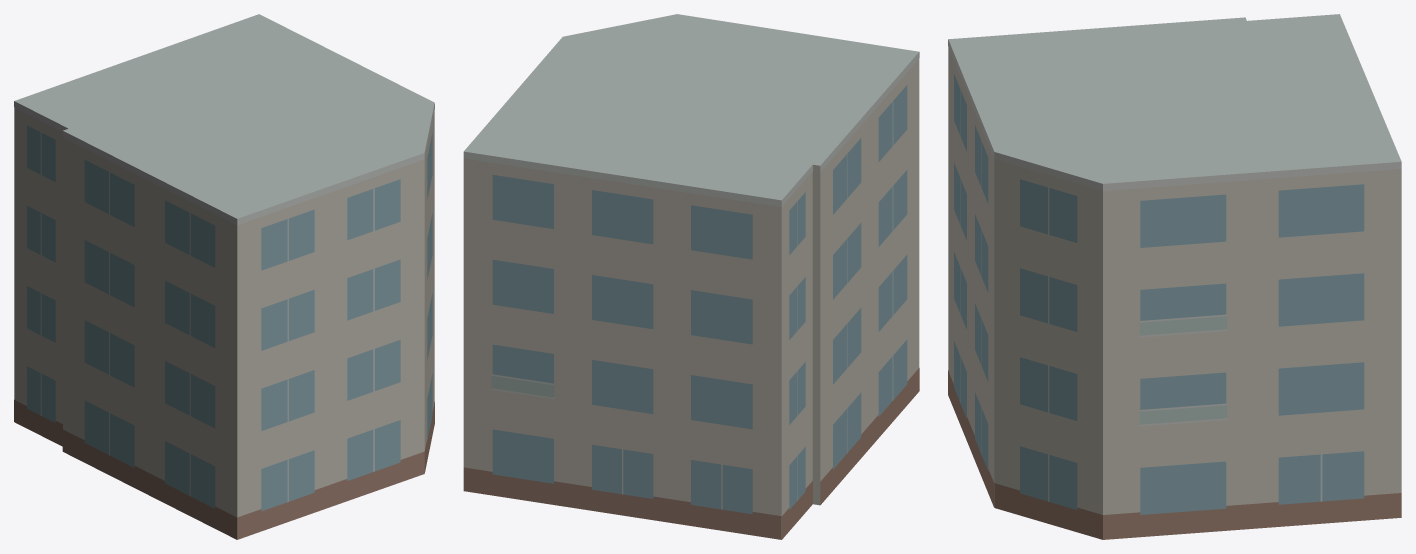
File: survey-upis-32879603.glb
The picture shows the model from 3 angles, left to right: view 1: azimuth 30°, elevation 25°; view 2: azimuth 150°, elevation 25°; view 3: azimuth 270°, elevation 25°; orthographic projection. The views are drawn at different scales.
Visible parts, largest first — view 1: survey-upis-32879603.tmp; view 2: survey-upis-32879603.tmp; view 3: survey-upis-32879603.tmp.
Part boxes in pixels (left/top/right/bottom): survey-upis-32879603.tmp: left=14, top=14, right=434, bottom=539; survey-upis-32879603.tmp: left=463, top=14, right=919, bottom=539; survey-upis-32879603.tmp: left=948, top=14, right=1401, bottom=539.
Bounding box in the file's own units: 12.49 × 12.2 × 14.1.
